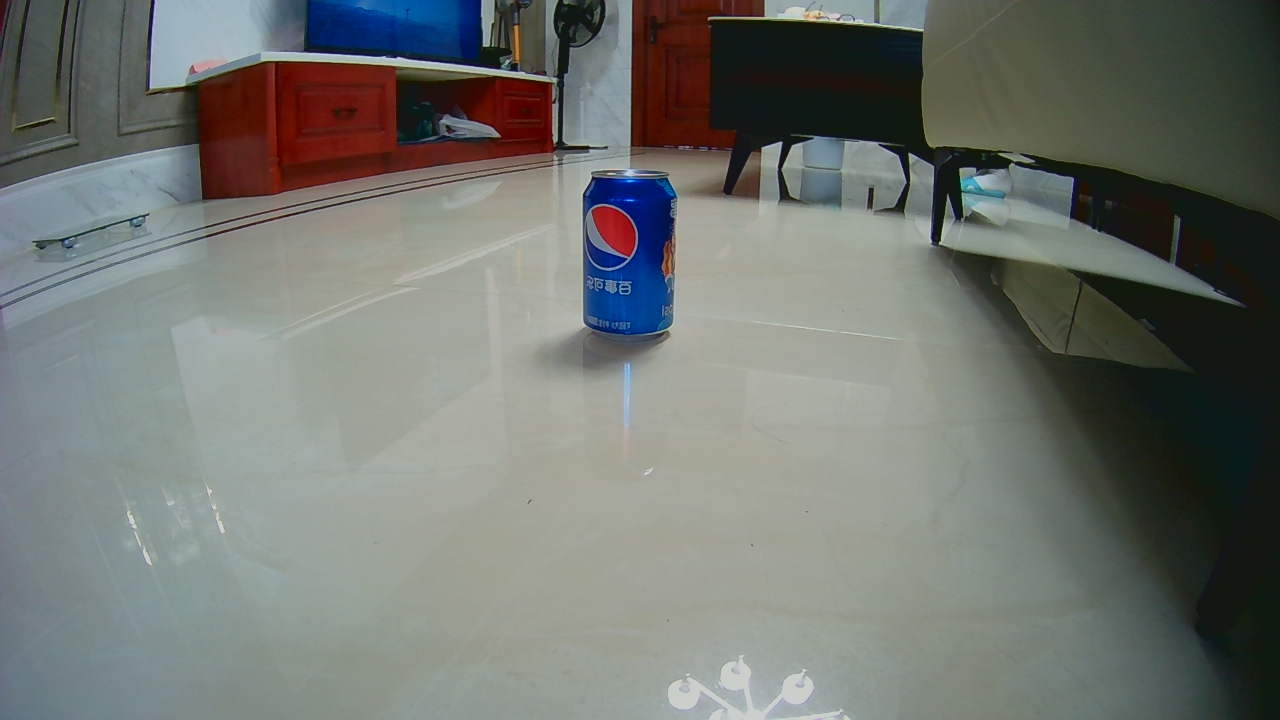pessi: (582, 172, 671, 350)
